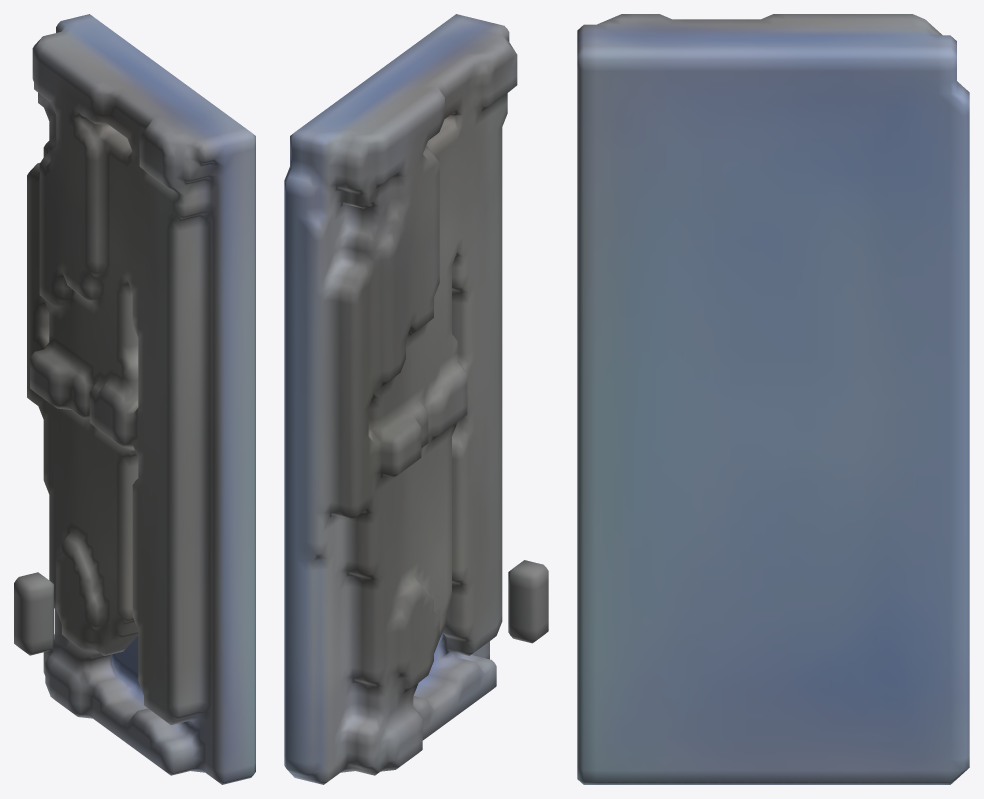
The model's file is Sleek rectangular glass coffee table with four cur.glb.
3 views of the same model, side by side, from view 1: azimuth 30°, elevation 25°; view 2: azimuth 150°, elevation 25°; view 3: azimuth 270°, elevation 25° (orthographic). The views are drawn at different scales.
Parts seen in each view (by area): view 1: Sleek rectangular glass coffee table with four cur; view 2: Sleek rectangular glass coffee table with four cur; view 3: Sleek rectangular glass coffee table with four cur.
Part boxes in pixels (<box>): Sleek rectangular glass coffee table with four cur: <box>14,14,255,784</box>; Sleek rectangular glass coffee table with four cur: <box>284,14,548,784</box>; Sleek rectangular glass coffee table with four cur: <box>577,14,969,784</box>.
Bounding box in the file's own units: 17 × 64 × 31.
